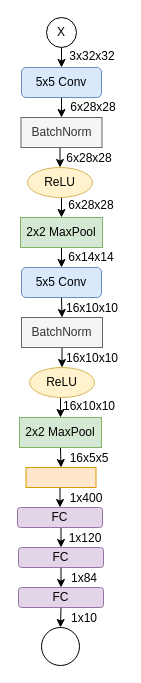
Some shapes in this 141 by 683 pixel diagram are drawn without their labels. Each missing label, with the centre of its shape:
"Out" goes at point 60,646.
"Reshape" goes at point 60,477.
